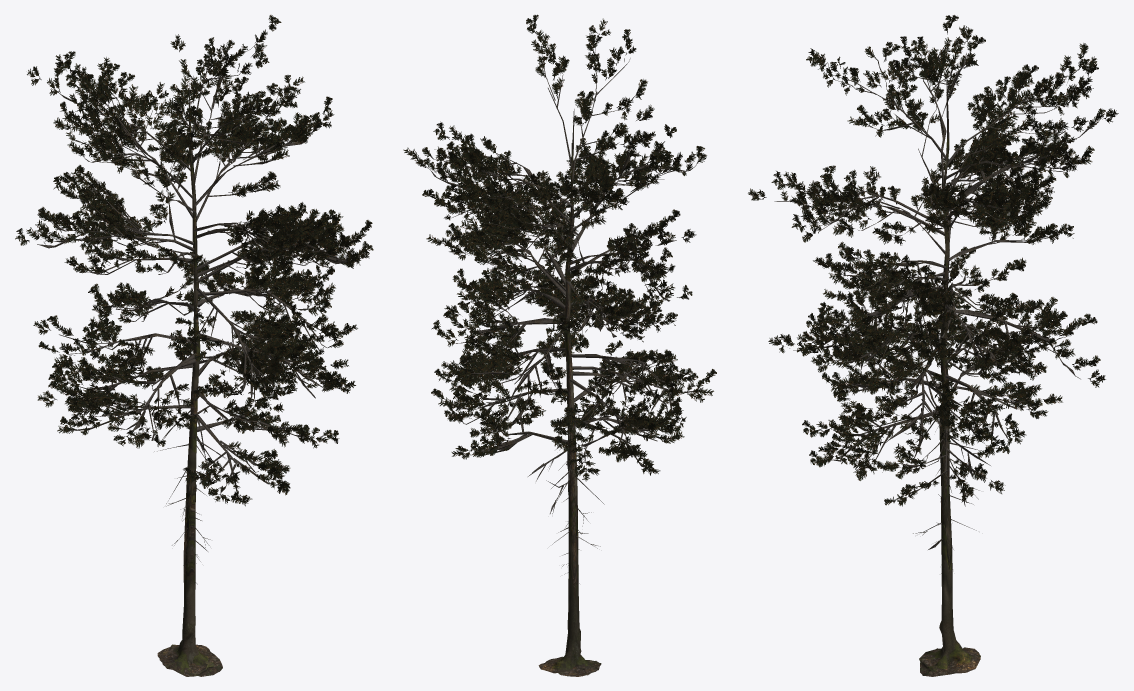
File: pine_b.glb
3 renders of one model, left to right at view 1: azimuth 30°, elevation 25°; view 2: azimuth 150°, elevation 25°; view 3: azimuth 270°, elevation 25°, orthographic. The views are drawn at different scales.
Visible parts, largest first — view 1: Forest_pine_b; view 2: Forest_pine_b; view 3: Forest_pine_b.
Part boxes in pixels (left/top/right/bottom): Forest_pine_b: left=15, top=15, right=373, bottom=676; Forest_pine_b: left=403, top=14, right=716, bottom=676; Forest_pine_b: left=748, top=15, right=1118, bottom=676.
Size of the model in its own units: 7.22 by 14.88 by 7.61.
Materials: 4 (4 with a texture image).
